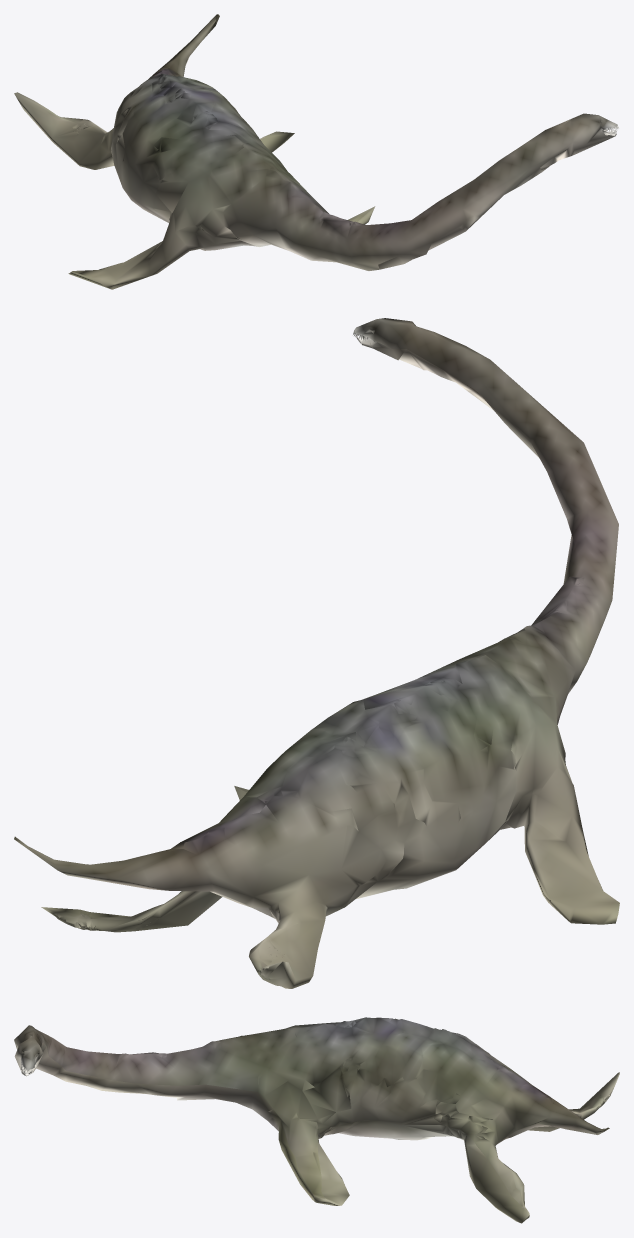
The model's file is nature-plesiosaurus.glb.
3 views of the same model, one above another, from view 1: azimuth 30°, elevation 25°; view 2: azimuth 150°, elevation 25°; view 3: azimuth 270°, elevation 25° (orthographic). The views are drawn at different scales.
Visible parts, largest first — view 1: Object_2; view 2: Object_2; view 3: Object_2.
Boxes of the visible parts, left/top/right/bottom form: Object_2: left=14, top=14, right=619, bottom=289; Object_2: left=14, top=318, right=619, bottom=988; Object_2: left=14, top=1017, right=619, bottom=1223.
Bounding box in the file's own units: 601 × 346 × 945.
Materials: 1 (1 with a texture image).
